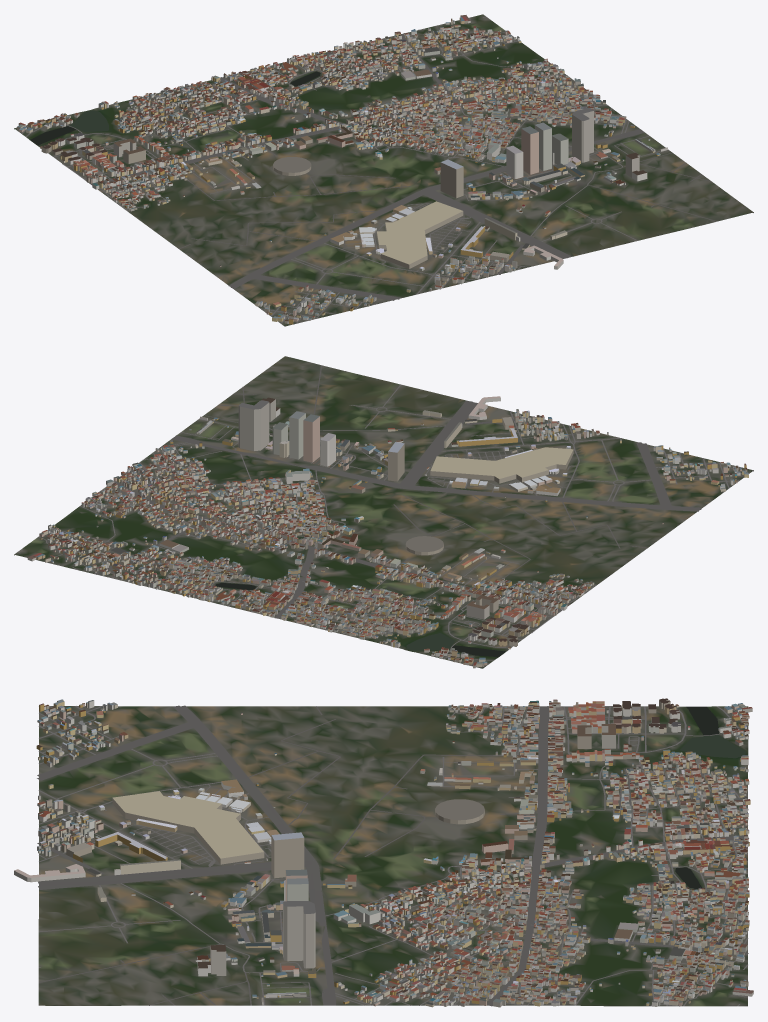
3 renders of one model, top to bottom at view 1: azimuth 30°, elevation 25°; view 2: azimuth 150°, elevation 25°; view 3: azimuth 270°, elevation 25°, orthographic. The views are drawn at different scales.
Parts seen in each view (by area): view 1: ground, buildings, roads, water; view 2: ground, buildings, roads, water; view 3: ground, buildings, roads, water.
Boxes of the visible parts, bbox=[...] form: ground: bbox=[14, 14, 753, 326]; buildings: bbox=[17, 15, 667, 324]; roads: bbox=[21, 17, 717, 326]; water: bbox=[30, 71, 320, 145]; ground: bbox=[14, 356, 753, 668]; buildings: bbox=[27, 396, 748, 668]; roads: bbox=[18, 365, 753, 665]; water: bbox=[215, 583, 505, 656]; ground: bbox=[38, 706, 748, 1006]; buildings: bbox=[14, 698, 753, 1007]; roads: bbox=[37, 705, 748, 1006]; water: bbox=[675, 706, 745, 889].
Bounding box in the file's own units: 1420 × 123 × 1463.
